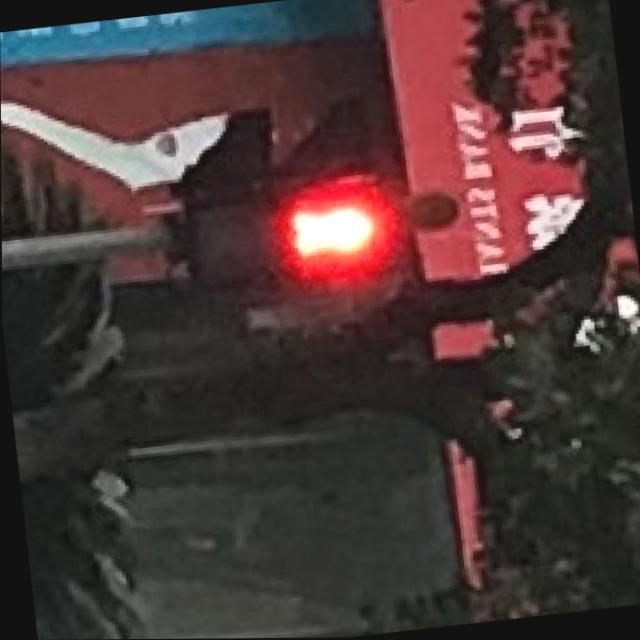red_light: (270, 182, 394, 285)
